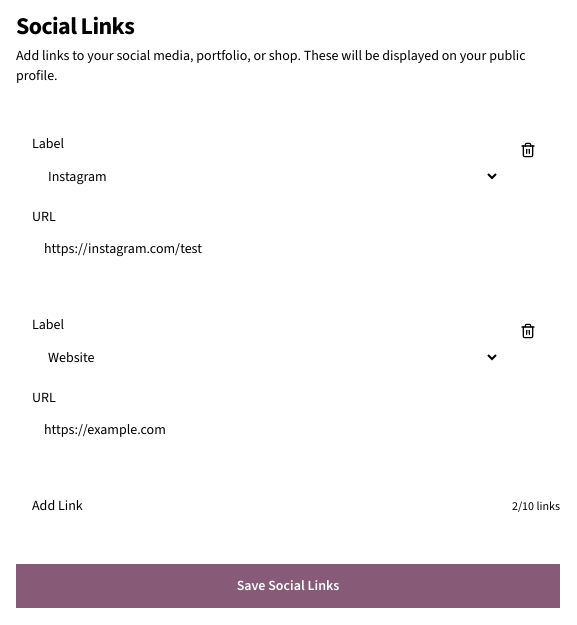
it: SocialLinksForm › removing links › removes correct link when multiple links exist
The width and height of the screenshot is (577, 625).
Click the button named "Remove": click(528, 150) x1=512 y1=134 x2=544 y2=166
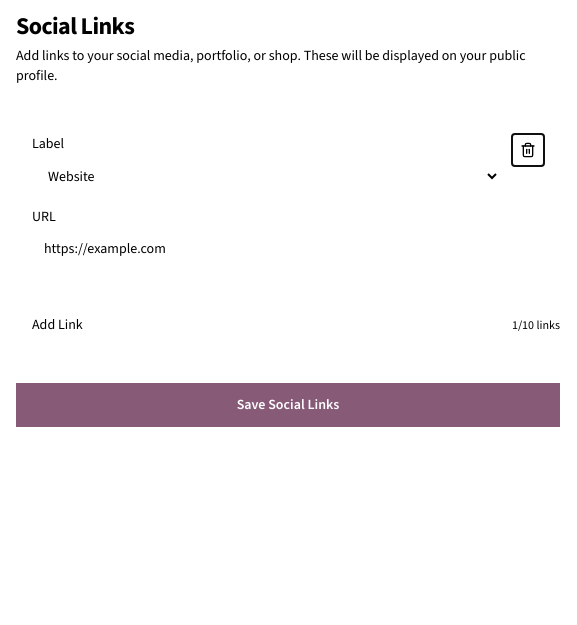
Result: the number of dropdowns is 1 at x1=32 y1=158 x2=500 y2=195
